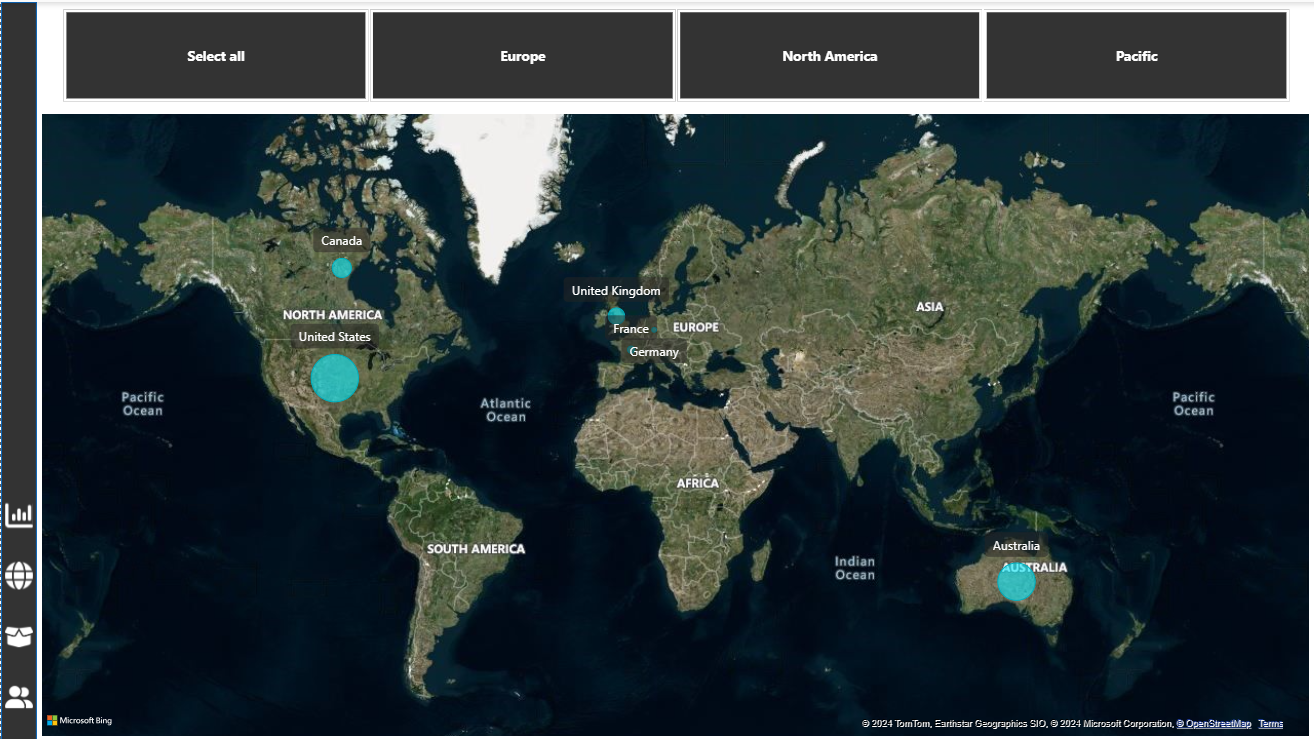

What the dashboard file says about the page in this screenshot:
{"tool":"powerbi","page":{"name":"map","canvas":[1280,720],"ordinal":1},"visuals":[{"type":"shape","box":[0,0,35,720],"z":0},{"type":"actionButton","box":[0,539.7,35.1,39.5],"z":0,"group":"g1"},{"type":"map","fields":{"Size":["Measure Table.Total Orders"],"Category":["Territory Lookup.Country"]},"box":[35.7,103.9,1243.8,615.7],"z":1000},{"type":"actionButton","box":[0,598.7,35.1,39.5],"z":1000,"group":"g1"},{"type":"slicer","fields":{"Values":["Territory Lookup.Continent"]},"box":[35.7,0,1243.8,103.9],"z":2000},{"type":"actionButton","box":[0,480.8,35.1,39.5],"z":2000,"group":"g1"},{"type":"group","id":"g1","title":"Navigation button","box":[0,480.8,35.1,216.3],"z":3000},{"type":"actionButton","box":[0,657.6,35.1,39.5],"z":3000,"group":"g1"}]}

Visuals, with their boxes in screenshot pixels (x1, y1, x2, y2):
shape: locate(0, 3, 35, 732)
actionButton: locate(0, 550, 36, 590)
map - Measure Table.Total Orders x Territory Lookup.Country: locate(36, 109, 1295, 732)
actionButton: locate(0, 610, 36, 650)
slicer - Territory Lookup.Continent: locate(36, 3, 1295, 109)
actionButton: locate(0, 490, 36, 530)
"Navigation button" group: locate(0, 490, 36, 709)
actionButton: locate(0, 669, 36, 709)
